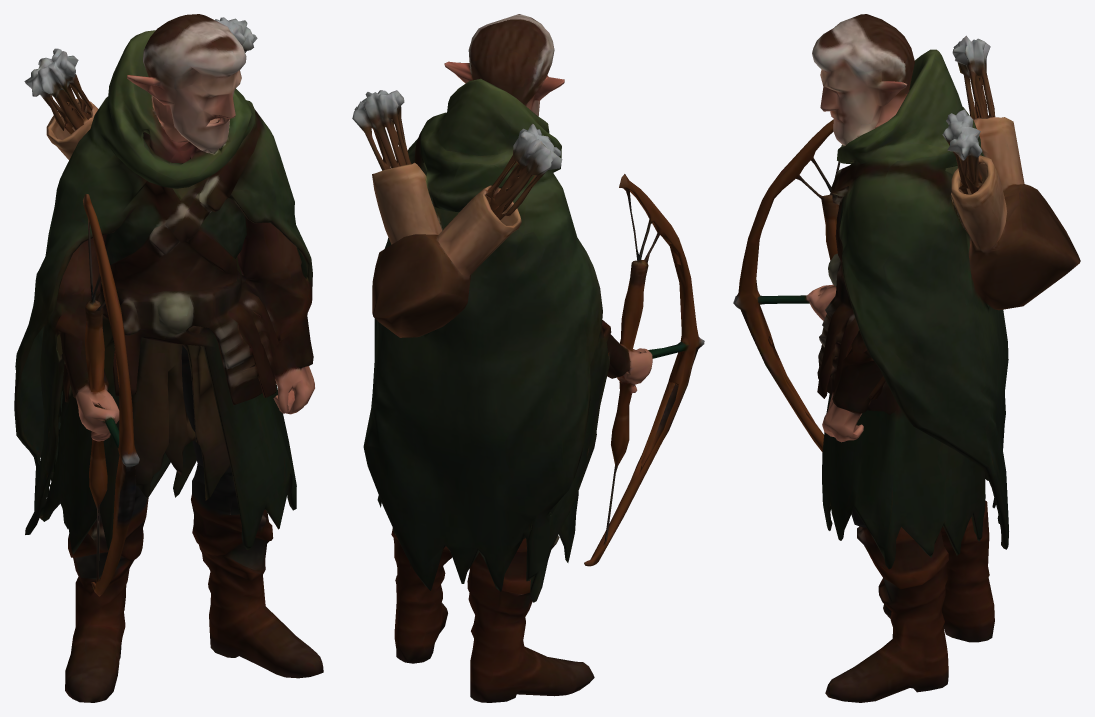
File: thorn.glb
3 views of the same model, side by side, from view 1: azimuth 30°, elevation 25°; view 2: azimuth 150°, elevation 25°; view 3: azimuth 270°, elevation 25° (orthographic). The views are drawn at different scales.
Visible parts, largest first — view 1: geometry_0; view 2: geometry_0; view 3: geometry_0.
Part boxes in pixels (left/top/right/bottom): geometry_0: left=14, top=14, right=323, bottom=702; geometry_0: left=352, top=14, right=704, bottom=702; geometry_0: left=733, top=14, right=1080, bottom=702.
Size of the model in its own units: 0.4124 by 1 by 0.4981.
1 material, 1 textured.
